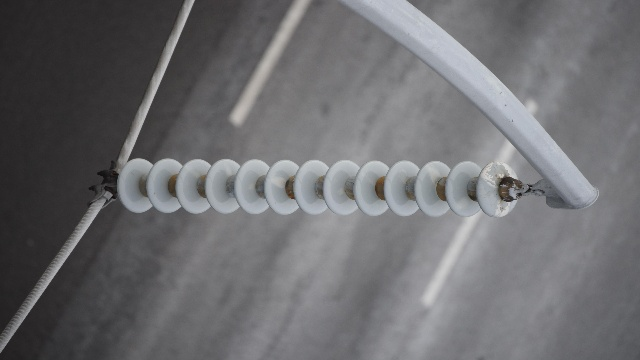insulator_unspecified: (119, 157, 517, 218)
pollution_flashover_local: (484, 161, 512, 188), (492, 198, 511, 218), (271, 176, 289, 190), (425, 166, 439, 183), (399, 168, 409, 184)
